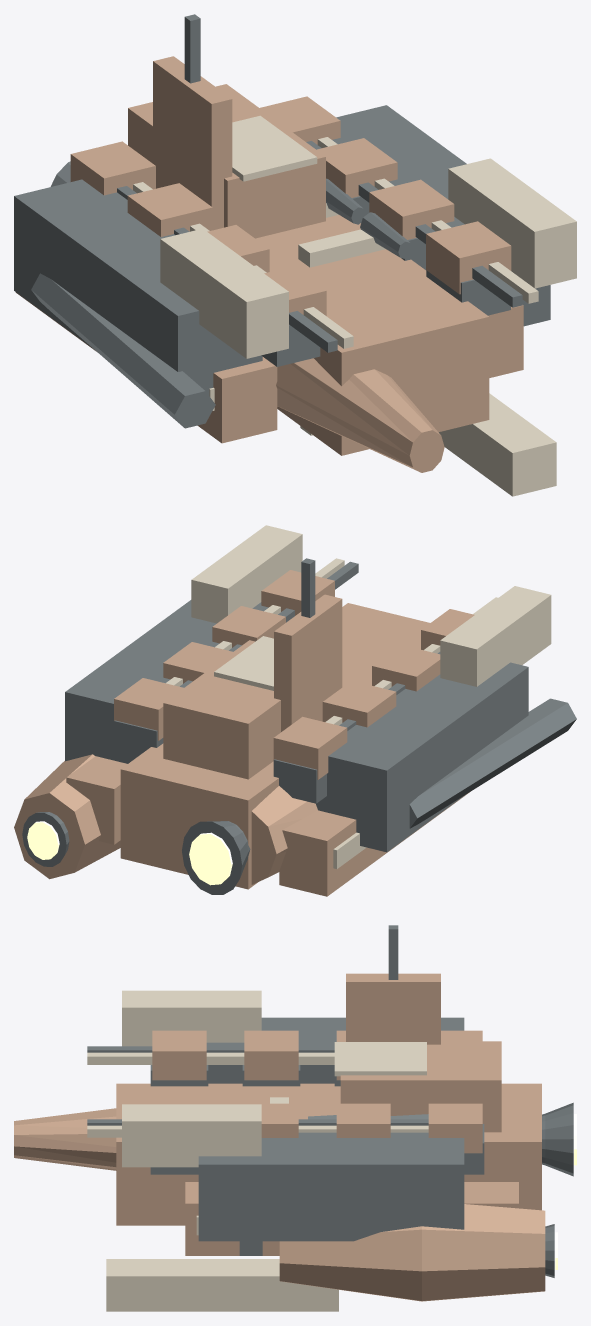
The picture shows the model from 3 angles, top to bottom: view 1: azimuth 30°, elevation 25°; view 2: azimuth 150°, elevation 25°; view 3: azimuth 270°, elevation 25°; orthographic projection. The views are drawn at different scales.
Bounding box in the file's own units: 13.69 × 11.91 × 19.57.
